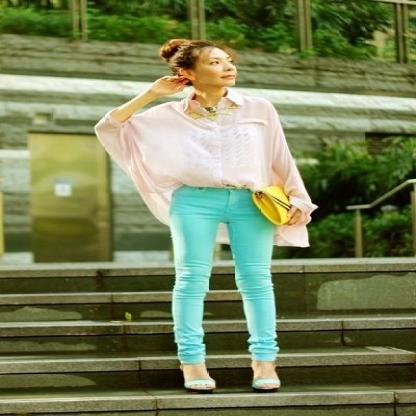bag: (252, 185, 309, 232)
pants: (162, 184, 286, 369)
shirt: (94, 86, 317, 224)
shoe: (182, 361, 280, 389)
